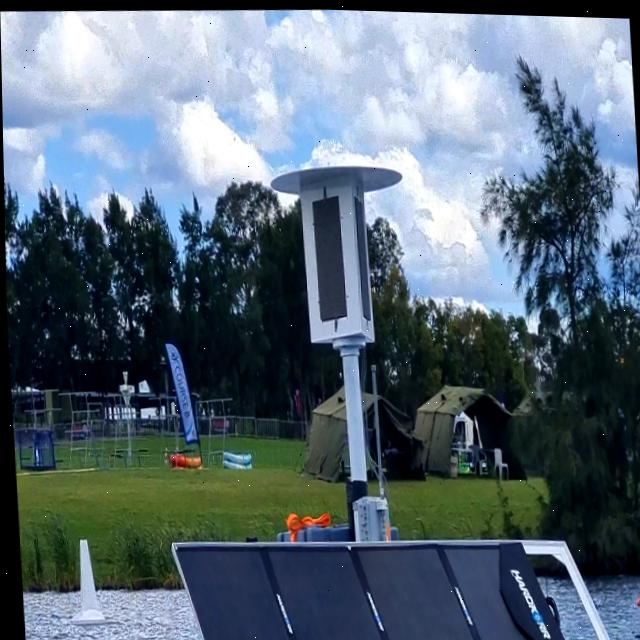led: (305, 181, 353, 327)
